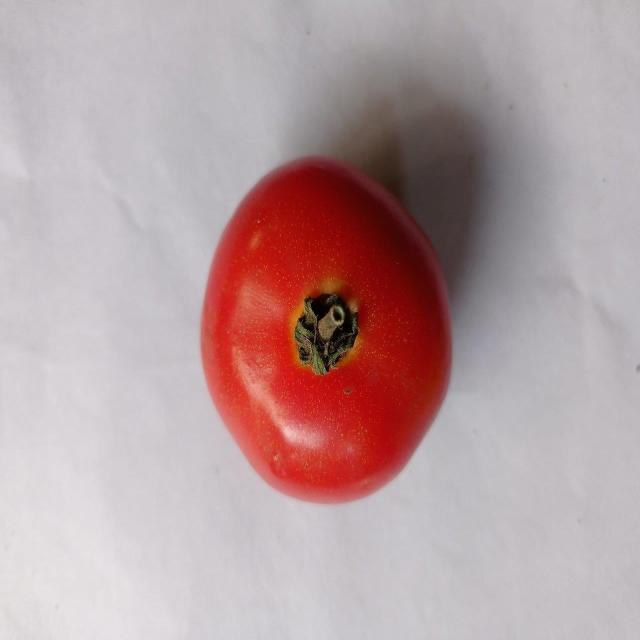Tomato: (197, 152, 455, 505)
